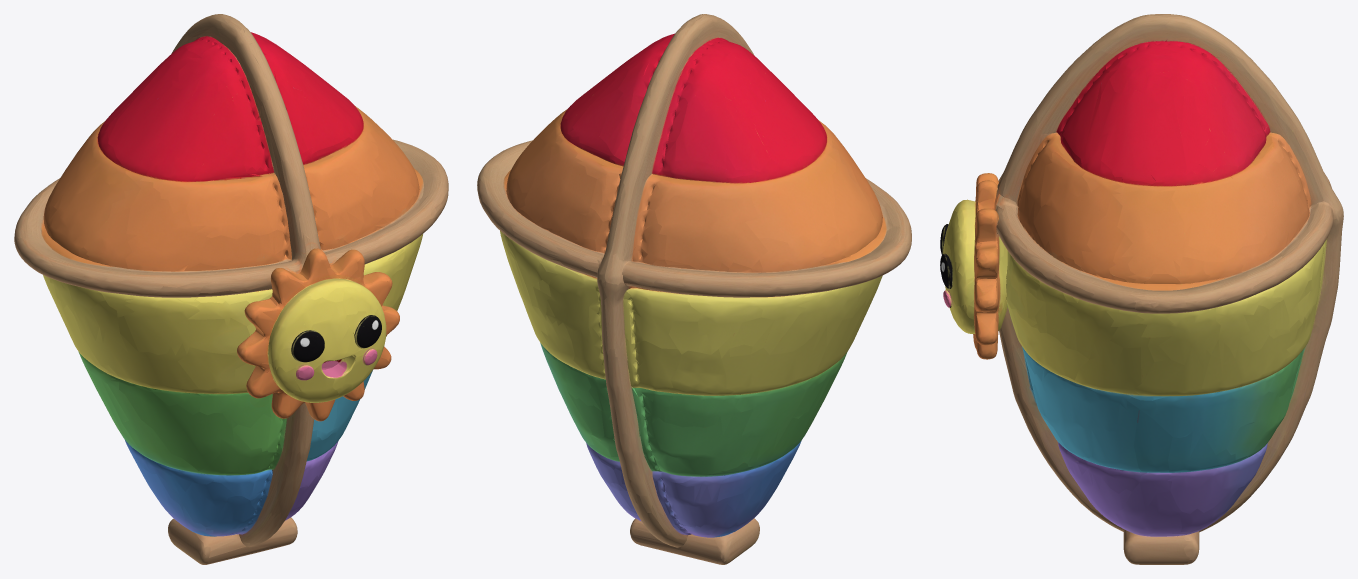
Rendered from rainbow-diamond-kite-v1.glb.
3 renders of one model, left to right at view 1: azimuth 30°, elevation 25°; view 2: azimuth 150°, elevation 25°; view 3: azimuth 270°, elevation 25°, orthographic.
Size of the model in its own units: 1.34 by 1.65 by 1.14.
Materials: 1 (1 with a texture image).
